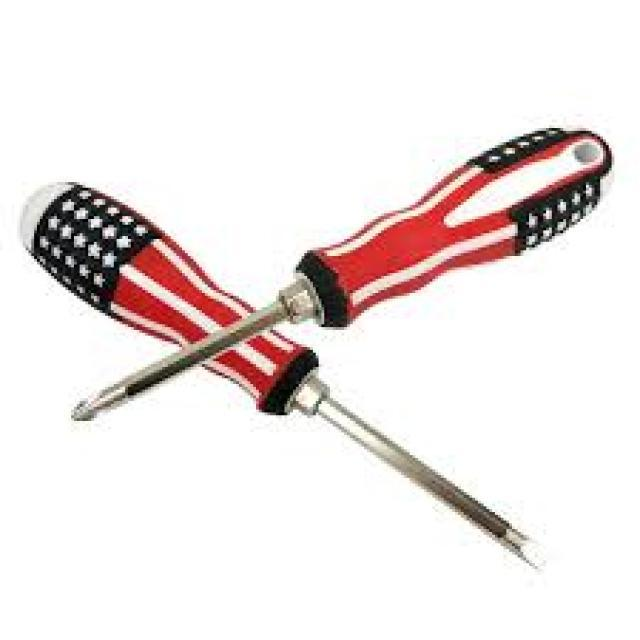screwdriver: (16, 176, 554, 574), (67, 126, 619, 422)
